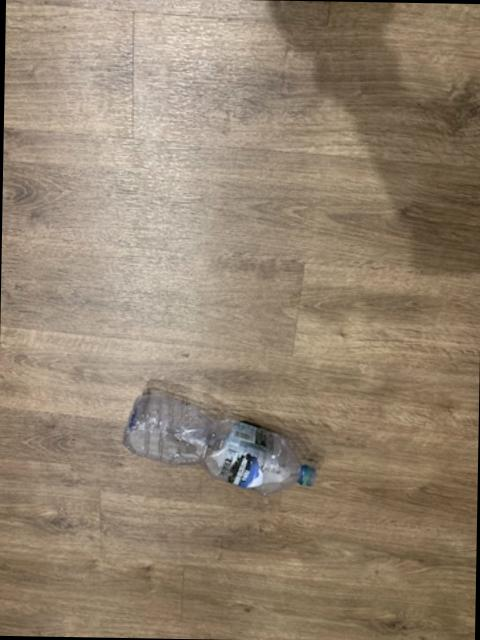plastic: (125, 395, 317, 496)
